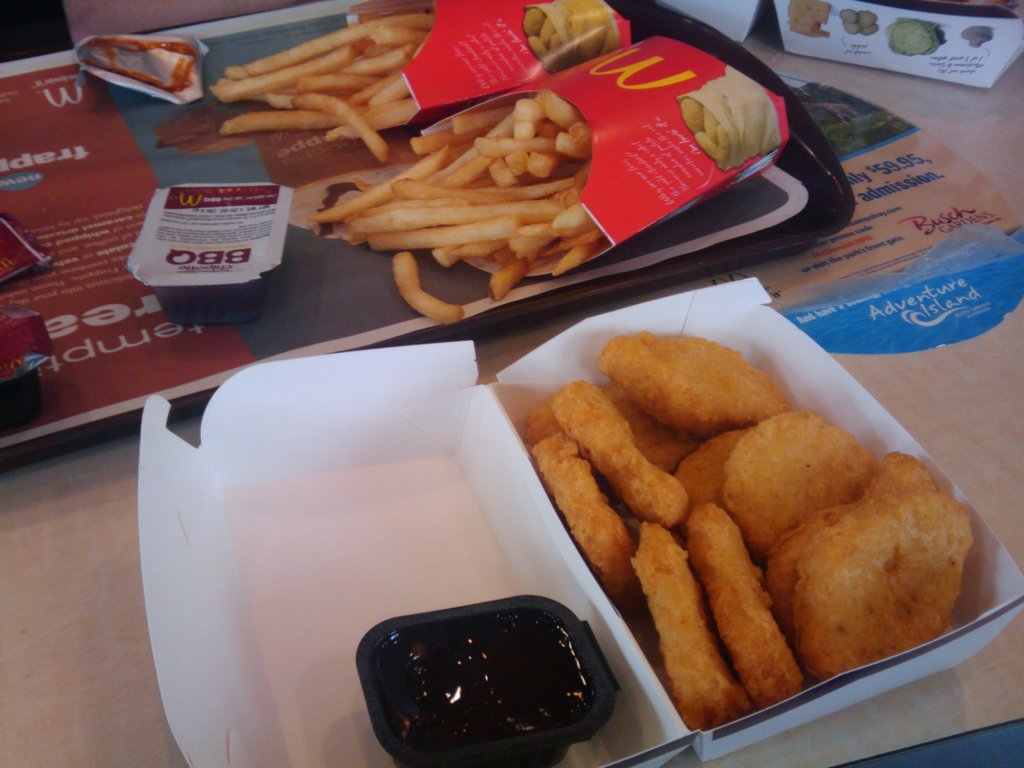French fries: (289, 81, 608, 290), (212, 7, 430, 156)
